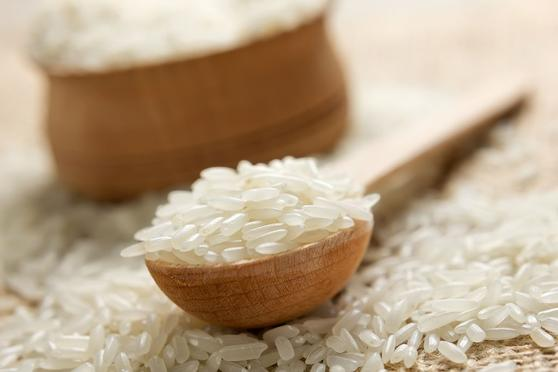rice: (147, 153, 372, 259)
